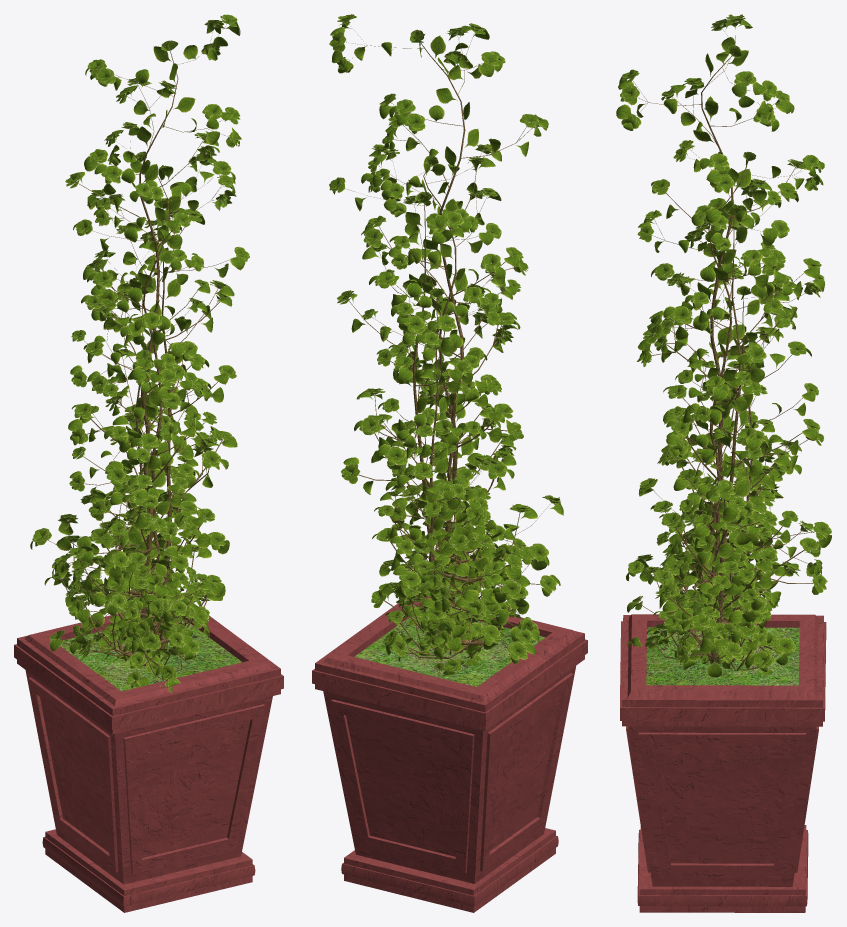
Rendered from fbxPot.fbx.
3 views of the same model, side by side, from view 1: azimuth 30°, elevation 25°; view 2: azimuth 150°, elevation 25°; view 3: azimuth 270°, elevation 25° (orthographic). The views are drawn at different scales.
Parts seen in each view (by area): view 1: flower, Pot; view 2: flower, Pot; view 3: flower, Pot.
Part boxes in pixels (x1,y1,x2,y2): flower: (30,14,249,692); Pot: (14,614,283,912); flower: (329,14,563,674); Pot: (312,593,587,912); flower: (616,14,831,677); Pot: (620,614,826,912).
Size of the model in its own units: 2.9 by 11.72 by 2.7.
5 materials, 5 textured.
